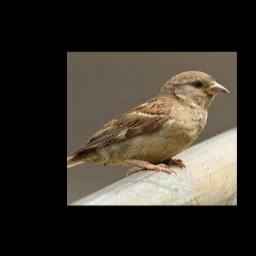Sparrow: (67, 70, 229, 175)
